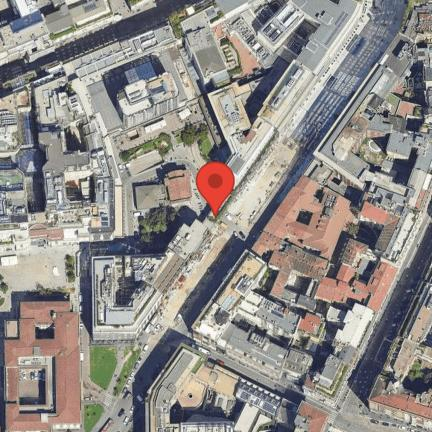area_open: (82, 333, 152, 432), (119, 137, 219, 186), (210, 18, 265, 83)
built: (191, 3, 432, 407), (0, 23, 206, 245), (182, 0, 362, 190), (145, 344, 328, 432), (90, 218, 210, 341), (369, 260, 432, 431), (5, 301, 80, 432), (0, 0, 118, 64), (164, 169, 192, 202), (136, 185, 160, 209)
vegetation_high: (138, 208, 183, 254)
vegetation_low: (0, 245, 92, 317), (116, 121, 220, 164)
